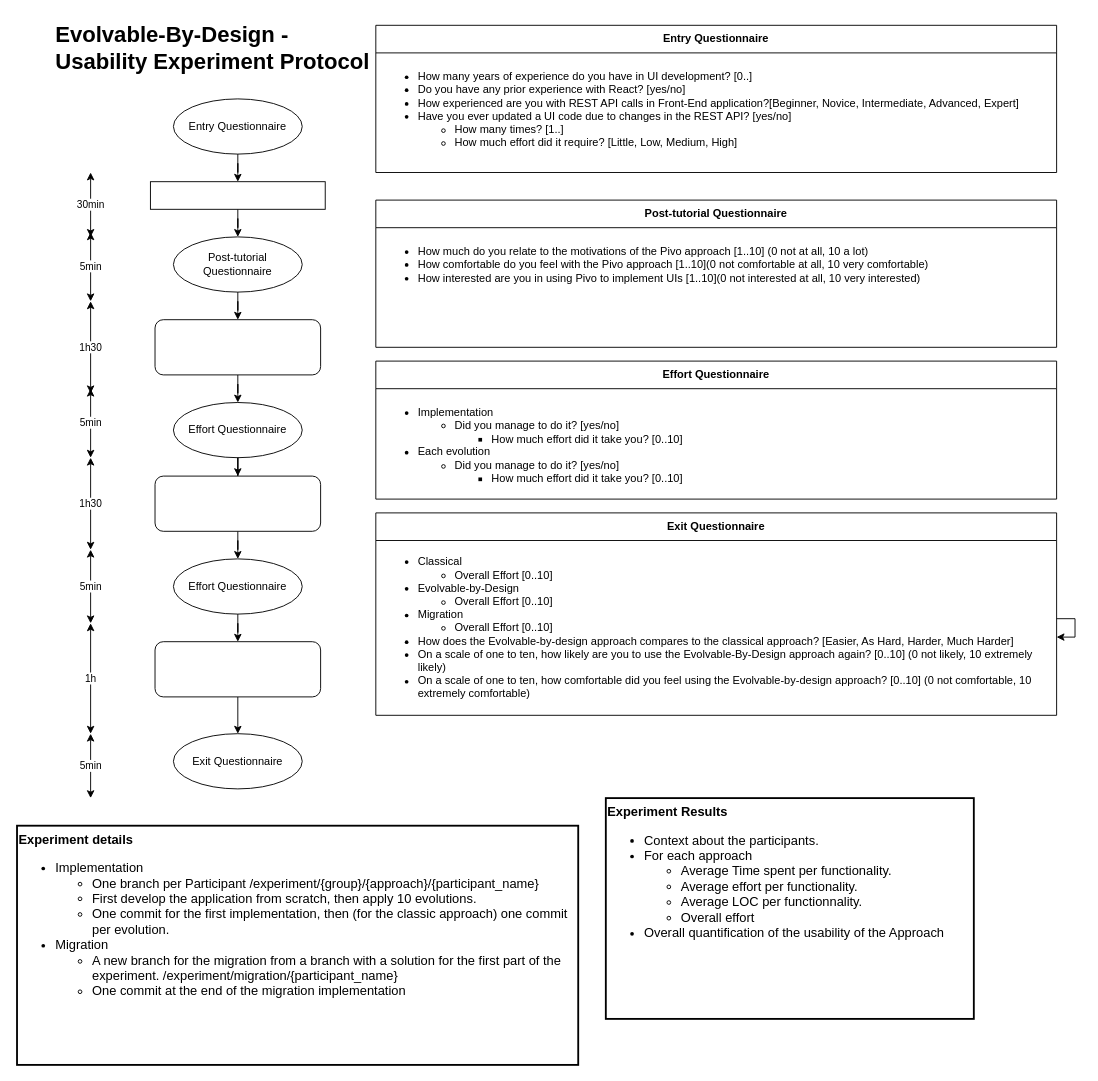
Some shapes in this 1098 by 1081 pixel diagram are drawn without their labels. Each missing label, with the centre of its shape:
Implementation Group 1 : Classical Group 2 : Evolvable-By-Design: (237,347)
Implementation Group 1 : Evolvable-By-Design Group 2 : Classical: (237,503)
Migration Both groups: (237,669)
Tutorial on Evolvable-By-Design: (237,195)
